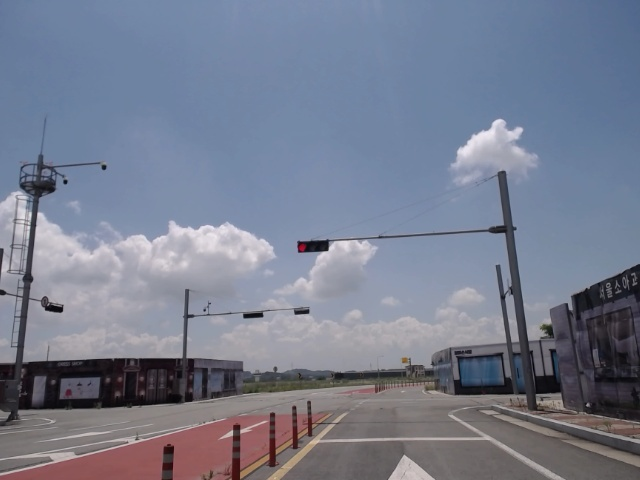red_3: (296, 241, 329, 252)
